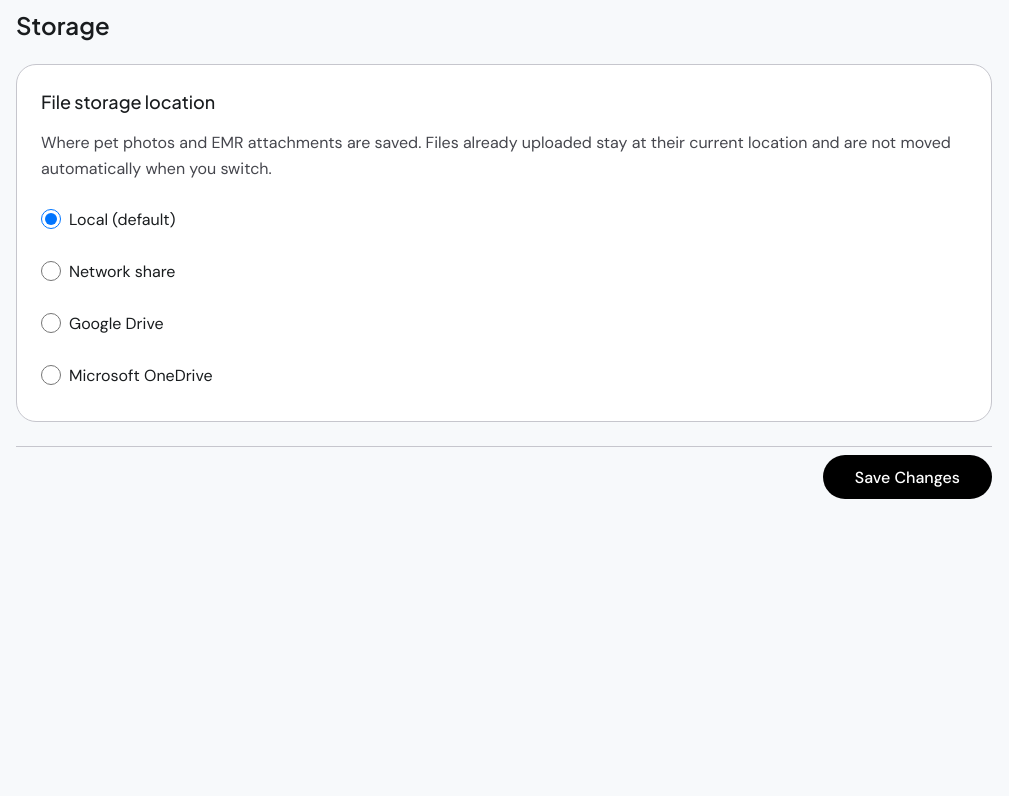
StoragePage › selecting "Network share" reveals the host/share/username/password fields
Click the radio button labelled "Network share": (51, 271) top-left (41, 261), bottom-right (61, 281)
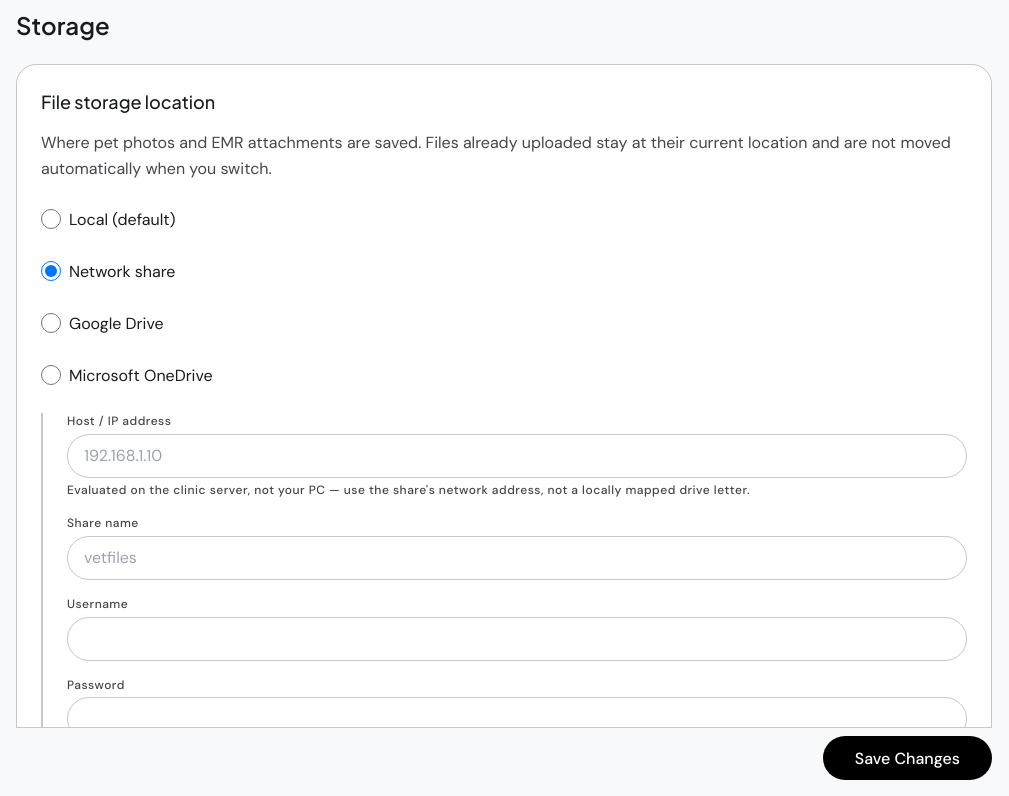
Expected: the field labelled "Host / IP address" is shown, top-left (67, 434), bottom-right (967, 478)
Expected: the field labelled "Share name" is shown, top-left (67, 536), bottom-right (967, 580)
Expected: the field labelled "Username" is shown, top-left (67, 617), bottom-right (967, 661)
